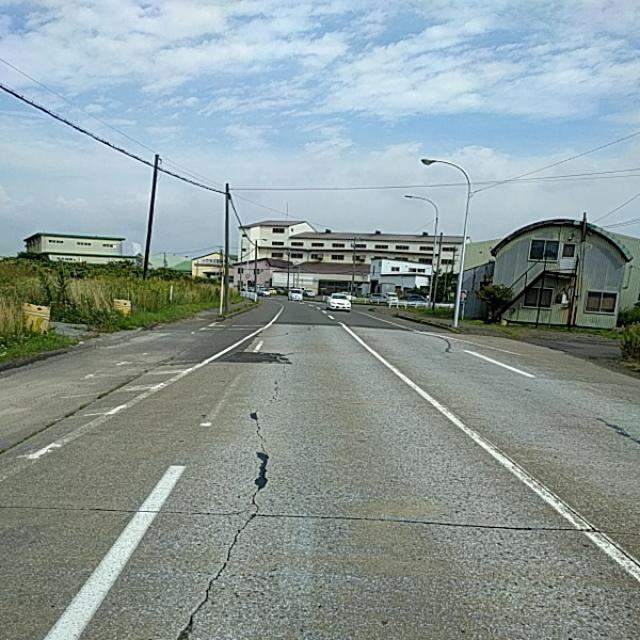pothole: (228, 372, 356, 638)
